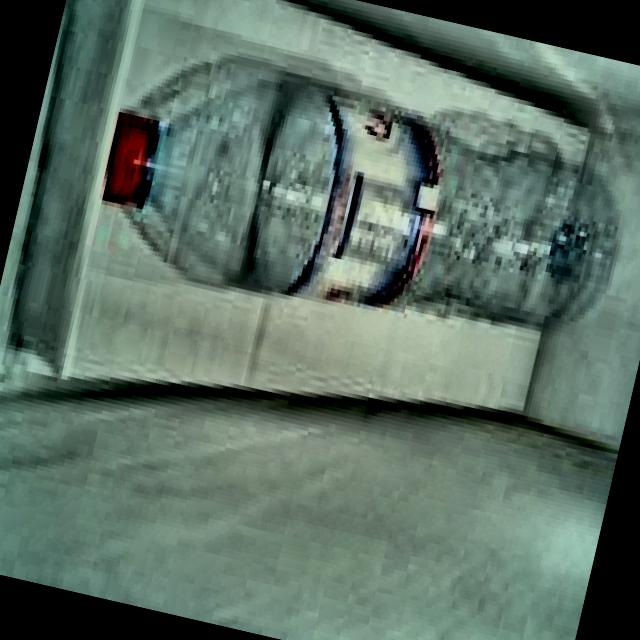plastic bottle: (104, 90, 618, 326)
